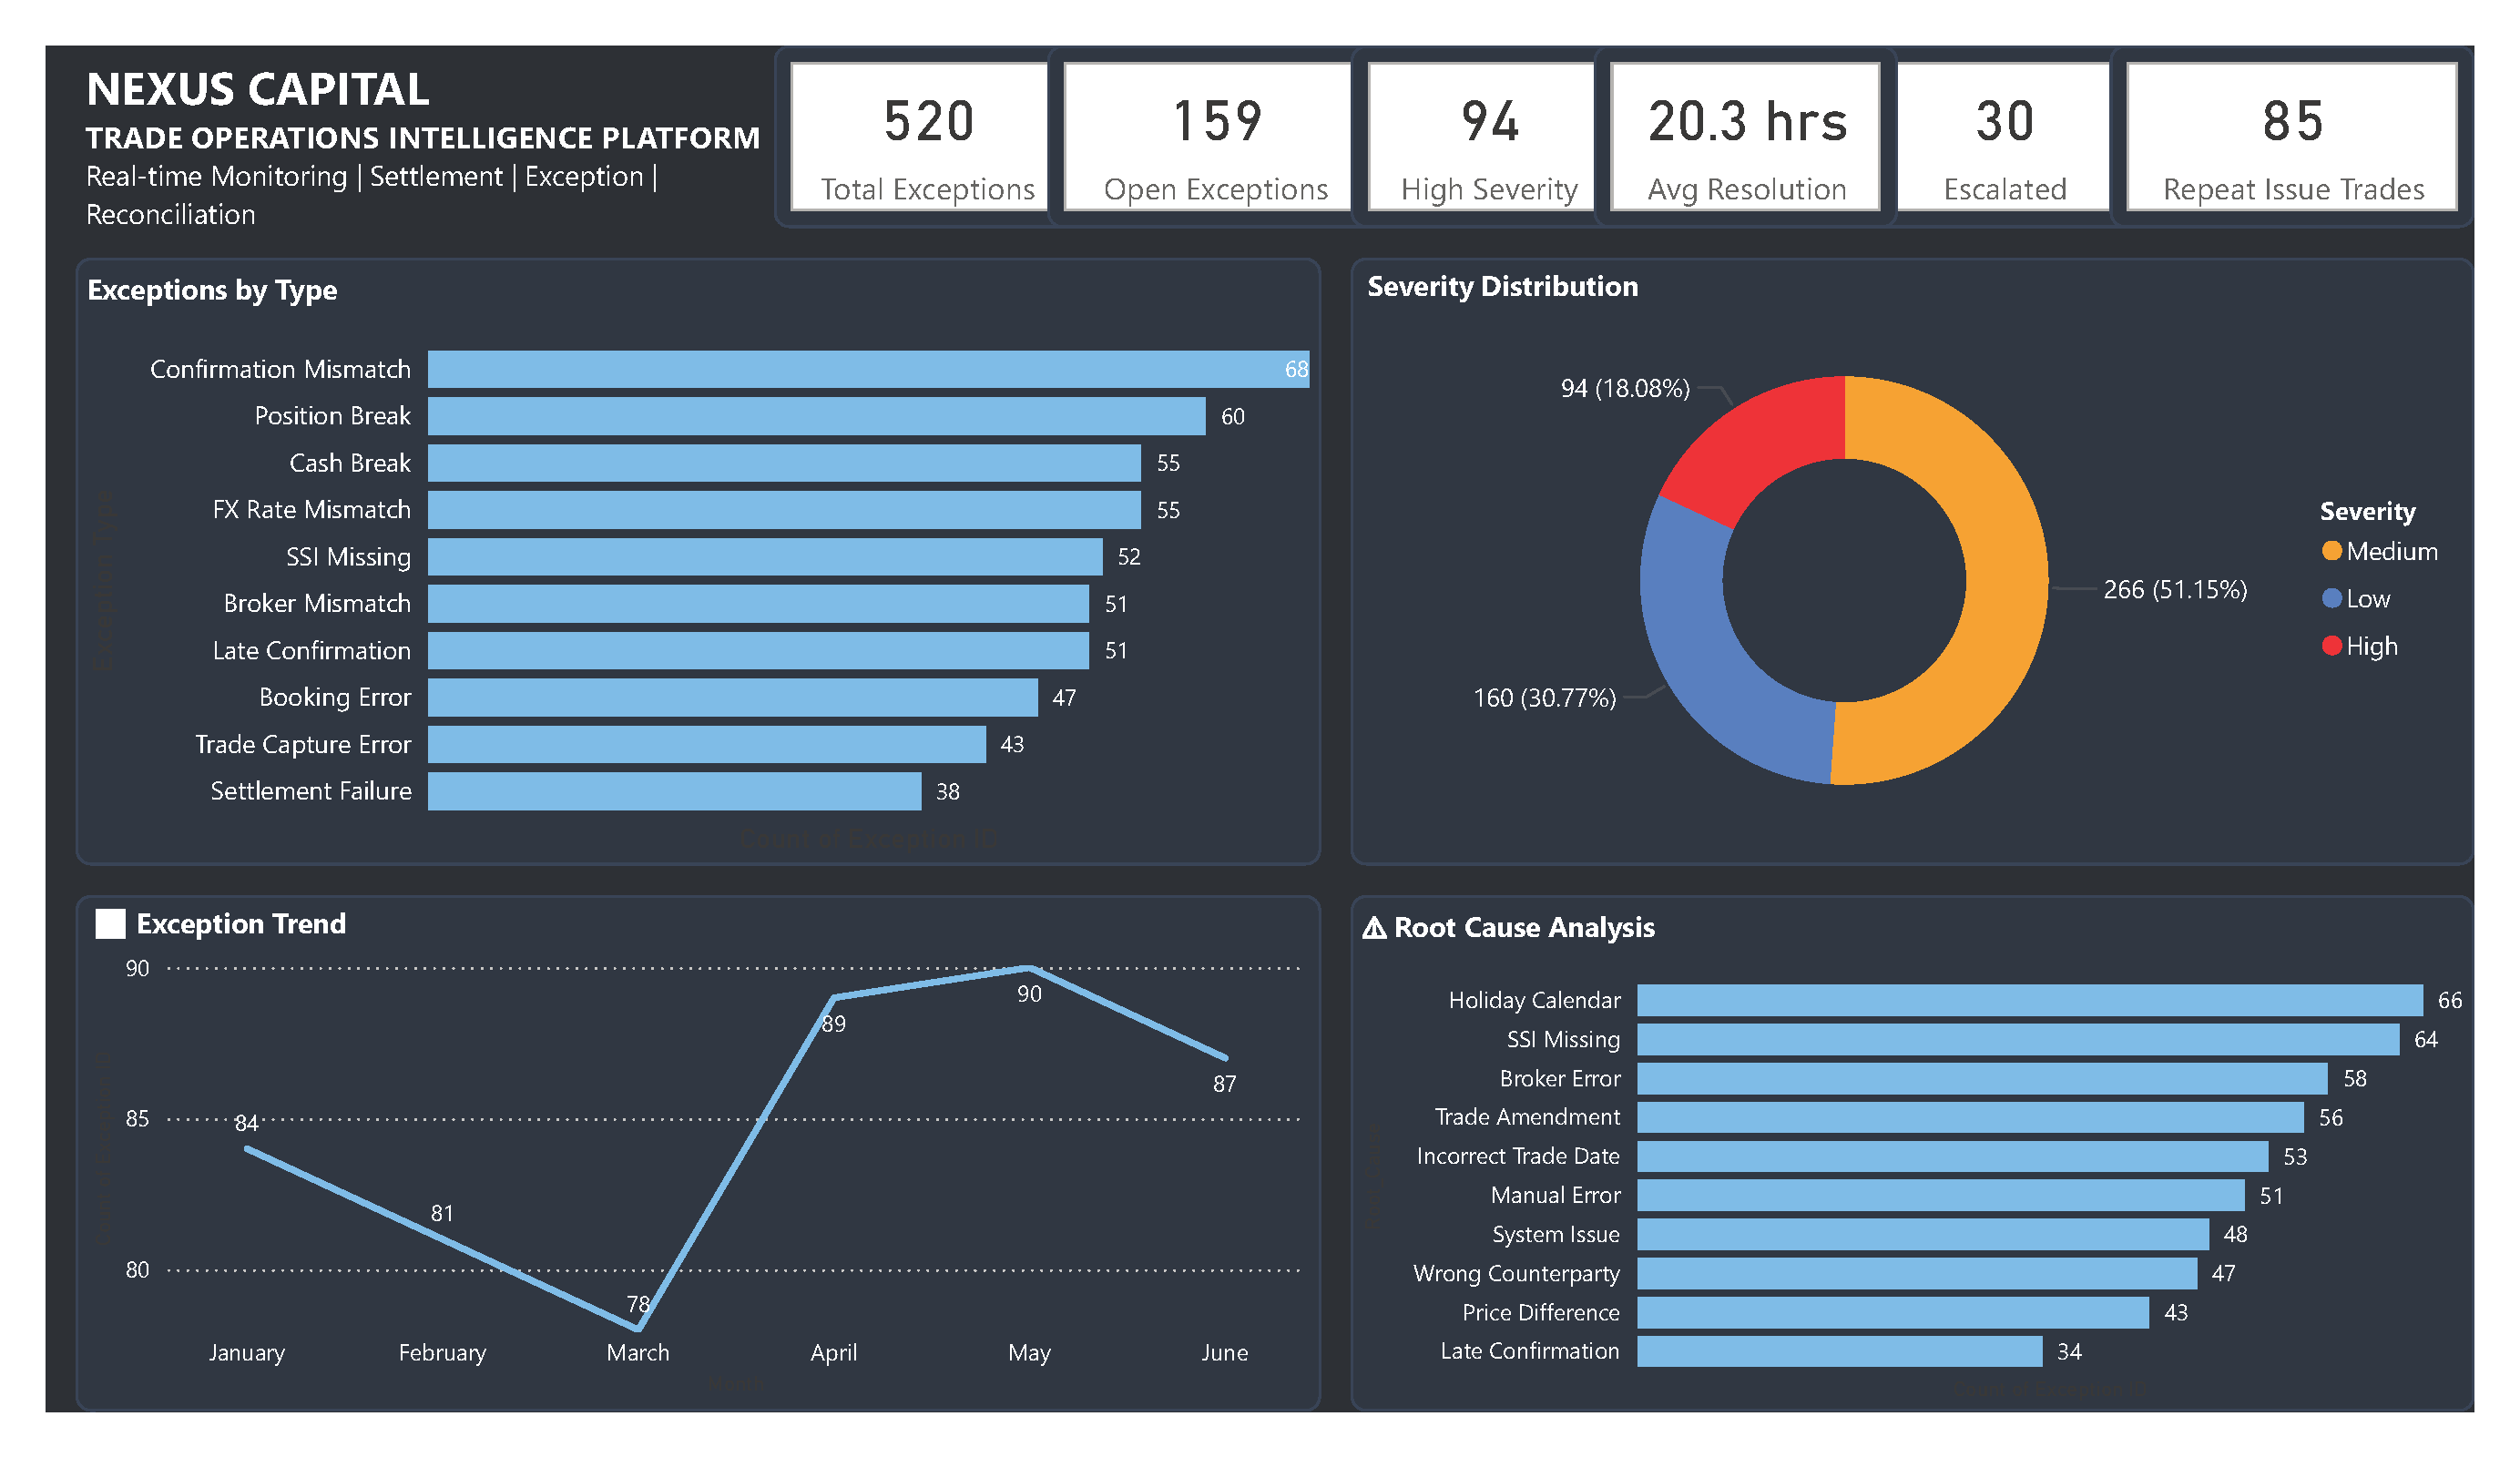

The page's visual inventory and layout, read from the dashboard file:
{"tool":"powerbi","page":{"name":"⚠ Exception Intelligence","canvas":[1280,720],"ordinal":2},"visuals":[{"type":"textbox","box":[16,0,384,112],"z":0},{"type":"cardVisual","fields":{"Data":["Date.Total Exceptions"]},"box":[384,0,160,96],"z":1000},{"type":"cardVisual","fields":{"Data":["Counterparty.Open Exceptions"]},"box":[528,0,176,96],"z":2000},{"type":"cardVisual","fields":{"Data":["Counterparty.High Severity Exceptions"]},"box":[688,0,144,96],"z":3000},{"type":"cardVisual","fields":{"Data":["Counterparty.Avg Resolution Time"]},"box":[1104,176,128,96],"z":4000},{"type":"cardVisual","fields":{"Data":["Counterparty.Escalated Exceptions"]},"box":[960,0,144,96],"z":5000},{"type":"cardVisual","fields":{"Data":["Counterparty.Repeat Issue Trades"]},"box":[1088,0,192,96],"z":6000},{"type":"clusteredBarChart","title":"Exceptions by Type","fields":{"Y":["CountNonNull(Exception.Exception_ID)"],"Category":["Exception.Exception_Type"]},"box":[16,112,656,320],"z":7000},{"type":"donutChart","title":"Severity Distribution","fields":{"Category":["Exception.Severity"],"Y":["CountNonNull(Exception.Exception_ID)"]},"box":[688,112,592,320],"z":8000},{"type":"lineChart","title":" 📈 Exception Trend","fields":{"Y":["CountNonNull(Exception.Exception_ID)"],"Category":["Exception.Created_Date.Variation.Date Hierarchy.Month"]},"box":[16,448,656,272],"z":9000},{"type":"clusteredBarChart","title":"⚠ Root Cause Analysis","fields":{"Y":["CountNonNull(Exception.Exception_ID)"],"Category":["Exception.Root_Cause"]},"box":[688,448,592,272],"z":10000},{"type":"cardVisual","fields":{"Data":["Counterparty.Avg Resolution Time"]},"box":[816,0,160,96],"z":11000}]}

Visuals, with their boxes on the page's 1280x720 design canvas (x1, y1, x2, y2). These are canvas units, not pixel positions in the 2520x1457 screenshot, which may show the page scaled, cropped or inside an application window:
textbox: 16, 0, 400, 112
cardVisual - Date.Total Exceptions: 384, 0, 544, 96
cardVisual - Counterparty.Open Exceptions: 528, 0, 704, 96
cardVisual - Counterparty.High Severity Exceptions: 688, 0, 832, 96
cardVisual - Counterparty.Avg Resolution Time: 1104, 176, 1232, 272
cardVisual - Counterparty.Escalated Exceptions: 960, 0, 1104, 96
cardVisual - Counterparty.Repeat Issue Trades: 1088, 0, 1280, 96
"Exceptions by Type" clusteredBarChart: 16, 112, 672, 432
"Severity Distribution" donutChart: 688, 112, 1280, 432
" 📈 Exception Trend" lineChart: 16, 448, 672, 720
"⚠ Root Cause Analysis" clusteredBarChart: 688, 448, 1280, 720
cardVisual - Counterparty.Avg Resolution Time: 816, 0, 976, 96
